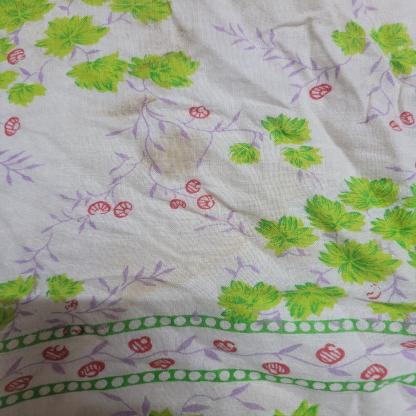spot: (78, 172, 324, 341), (140, 122, 220, 180), (101, 92, 159, 116)
